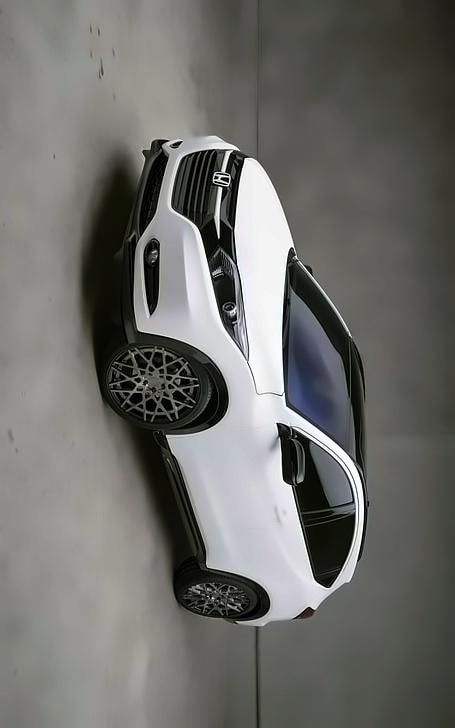Car hood: (232, 149, 294, 399)
Fender - -F-L-: (161, 360, 296, 441)
Fender - -R-L-: (232, 577, 319, 618)
Front bumper: (113, 118, 232, 373)
Headlight - -L-: (204, 244, 252, 362)
Passenger-s door - -F-L-: (162, 441, 368, 528)
Passenger-s door - -R-L-: (183, 519, 367, 586)
Rear bumper: (215, 605, 271, 641)
Rear light - -L-: (287, 600, 319, 625)
Side bumper - -L-: (149, 425, 213, 576)
Side mirror - -L-: (272, 421, 312, 491)
